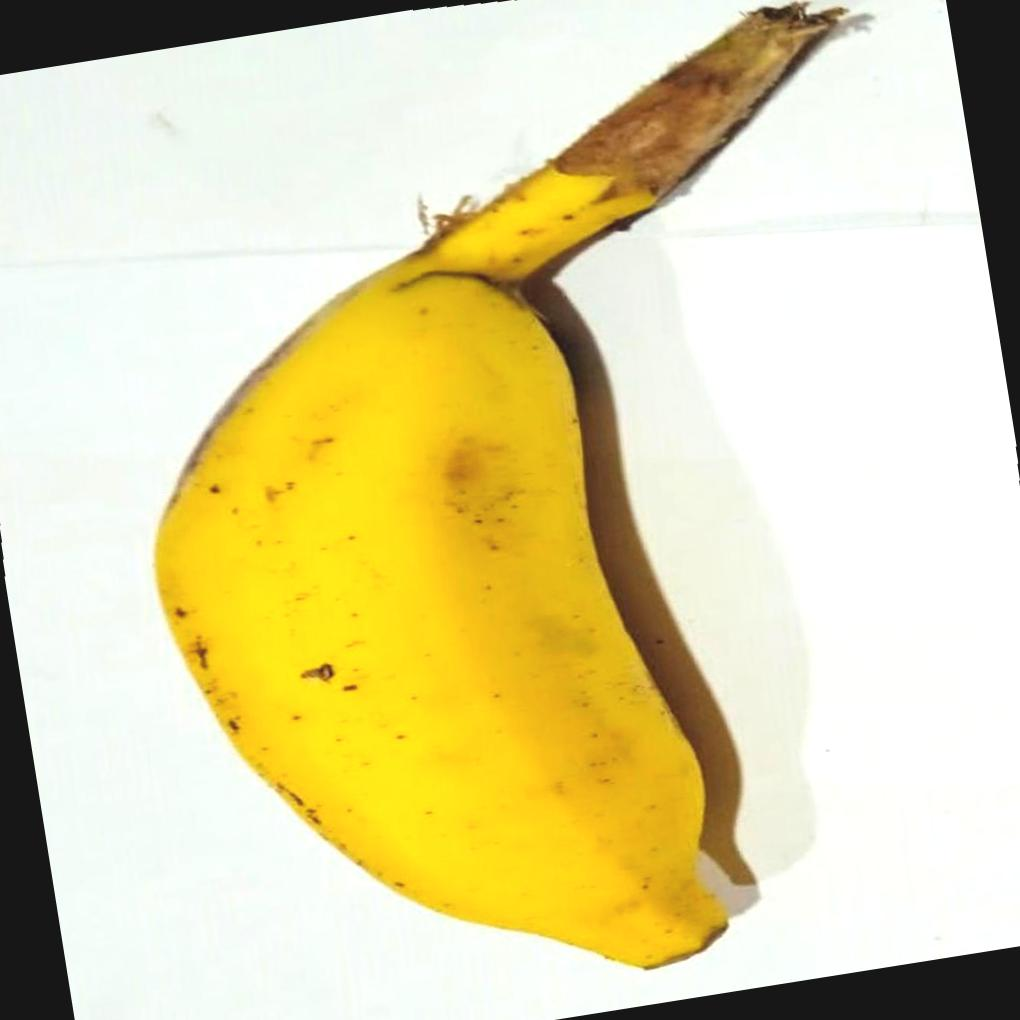Banana Ripe: (78, 84, 908, 1020)
